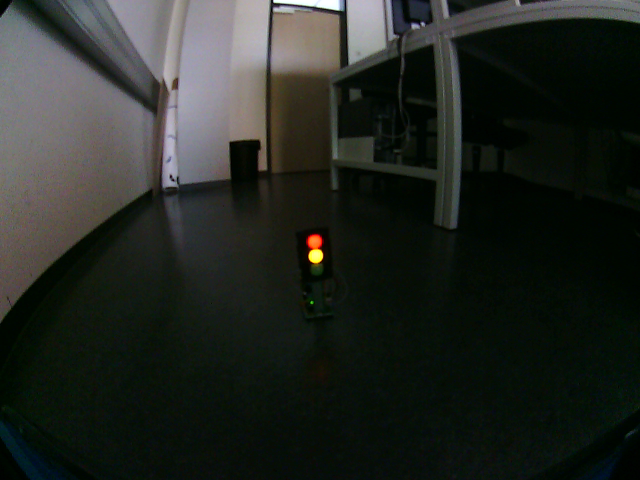red yellow trafficlight: (299, 233, 330, 281)
